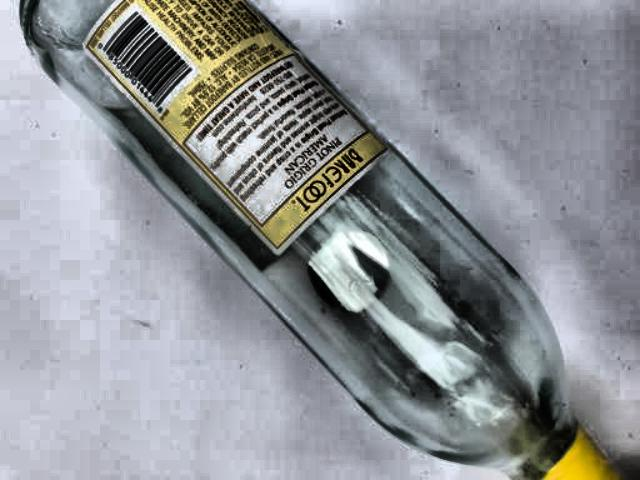Bottles: (9, 0, 625, 480)
